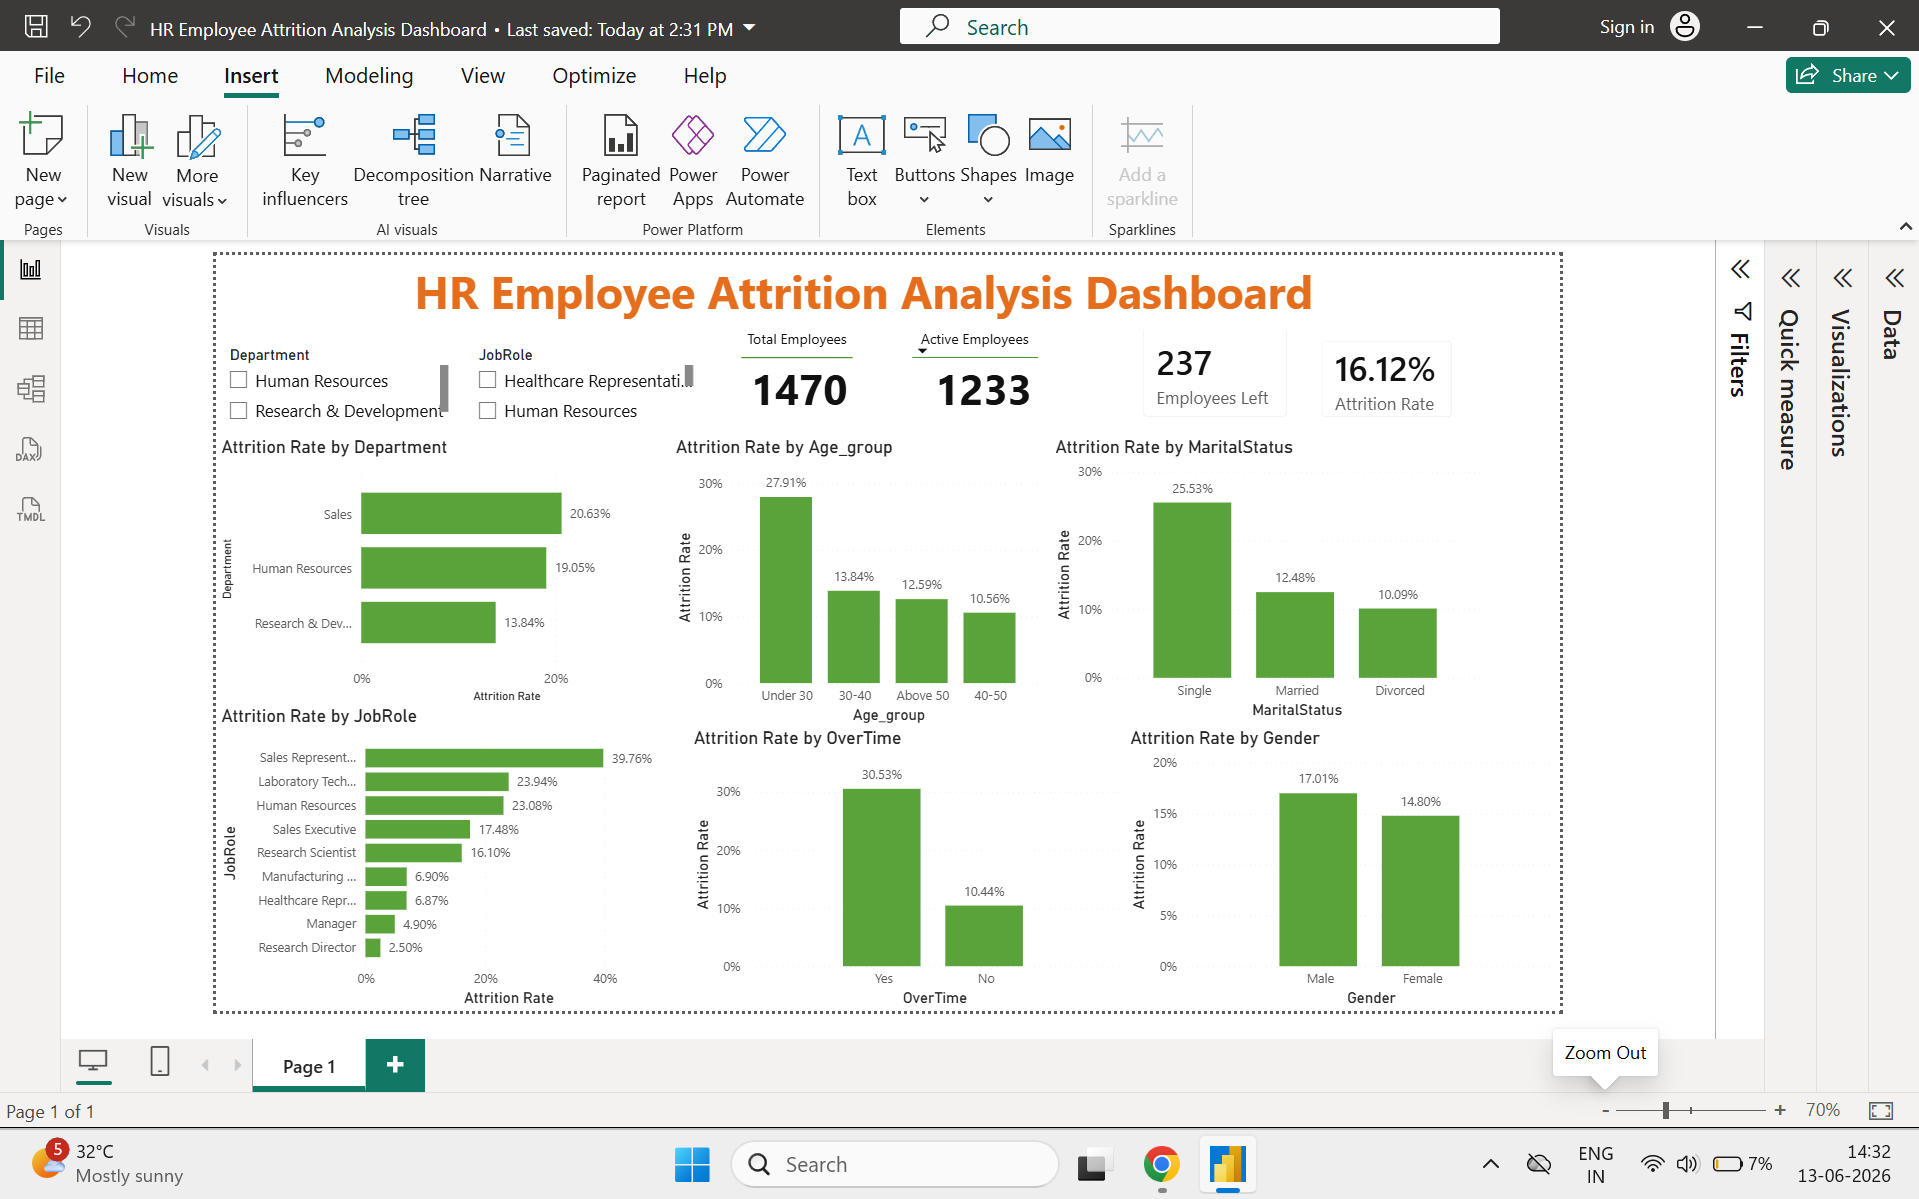

The dashboard page shown, as its layout file describes it:
{"tool":"powerbi","page":{"name":"Page 1","canvas":[1280,720],"ordinal":0},"visuals":[{"type":"cardVisual","fields":{"Data":["Fact_Employee.Attrition Rate"]},"box":[1036.2,63.8,158.8,107.5],"z":1000},{"type":"cardVisual","fields":{"Data":["Fact_Employee.Employees Left"]},"box":[865,50,171.2,121.2],"z":3000},{"type":"clusteredBarChart","fields":{"Y":["Fact_Employee.Attrition Rate"],"Category":["dim_department.Department"]},"box":[0,172.5,432.5,257.5],"z":4000},{"type":"clusteredBarChart","fields":{"Y":["Fact_Employee.Attrition Rate"],"Category":["dim_jobrole.JobRole"]},"box":[0,428.8,432.5,291.2],"z":5000},{"type":"clusteredColumnChart","fields":{"Y":["Fact_Employee.Attrition Rate"],"Category":["dim_work.OverTime"]},"box":[450,450,415,270],"z":6000},{"type":"clusteredColumnChart","fields":{"Y":["Fact_Employee.Attrition Rate"],"Category":["dim_demographics.Age_group"]},"box":[432.5,172.5,361.2,277.5],"z":7000},{"type":"clusteredColumnChart","fields":{"Category":["dim_demographics.MaritalStatus"],"Y":["Fact_Employee.Attrition Rate"]},"box":[793.8,172.5,416.2,272.5],"z":8000},{"type":"clusteredColumnChart","fields":{"Category":["dim_demographics.Gender"],"Y":["Fact_Employee.Attrition Rate"]},"box":[865,450,415,270],"z":9000},{"type":"slicer","fields":{"Values":["dim_department.Department"]},"box":[0,81.2,226.2,91.2],"z":10000},{"type":"slicer","fields":{"Values":["dim_jobrole.JobRole"]},"box":[237.5,81.2,222.5,91.2],"z":11000},{"type":"textbox","box":[113.8,0,1005,71.2],"z":11001},{"type":"tableEx","fields":{"Values":["Fact_Employee.Active Employees"]},"box":[657.5,63.8,207.5,107.5],"z":11002},{"type":"tableEx","fields":{"Values":["Fact_Employee.Total Employees"]},"box":[493.8,63.8,163.8,98.8],"z":11003}]}

Visuals, with their boxes on the page's 1280x720 design canvas (x1, y1, x2, y2). These are canvas units, not pixel positions in the 1919x1199 screenshot, which may show the page scaled, cropped or inside an application window:
cardVisual - Fact_Employee.Attrition Rate: x1=1036 y1=64 x2=1195 y2=171
cardVisual - Fact_Employee.Employees Left: x1=865 y1=50 x2=1036 y2=171
clusteredBarChart - Fact_Employee.Attrition Rate x dim_department.Department: x1=0 y1=172 x2=432 y2=430
clusteredBarChart - Fact_Employee.Attrition Rate x dim_jobrole.JobRole: x1=0 y1=429 x2=432 y2=720
clusteredColumnChart - Fact_Employee.Attrition Rate x dim_work.OverTime: x1=450 y1=450 x2=865 y2=720
clusteredColumnChart - Fact_Employee.Attrition Rate x dim_demographics.Age_group: x1=432 y1=172 x2=794 y2=450
clusteredColumnChart - dim_demographics.MaritalStatus x Fact_Employee.Attrition Rate: x1=794 y1=172 x2=1210 y2=445
clusteredColumnChart - dim_demographics.Gender x Fact_Employee.Attrition Rate: x1=865 y1=450 x2=1280 y2=720
slicer - dim_department.Department: x1=0 y1=81 x2=226 y2=172
slicer - dim_jobrole.JobRole: x1=238 y1=81 x2=460 y2=172
textbox: x1=114 y1=0 x2=1119 y2=71
tableEx - Fact_Employee.Active Employees: x1=658 y1=64 x2=865 y2=171
tableEx - Fact_Employee.Total Employees: x1=494 y1=64 x2=658 y2=163
